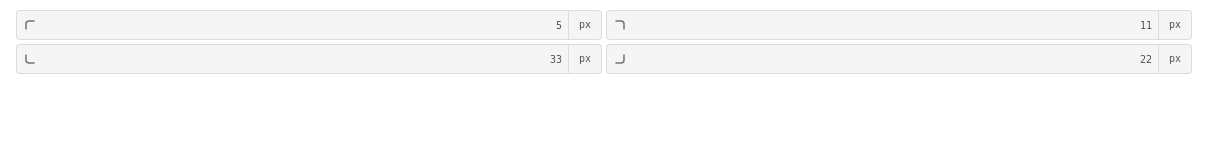
Test case: CornerRadiusEditor CornerCell (behavioral) › arrow-step writes the stepped value back into the draft (input reflects it)
Click the text "5".
click(559, 25)  # box [556,20,562,30]
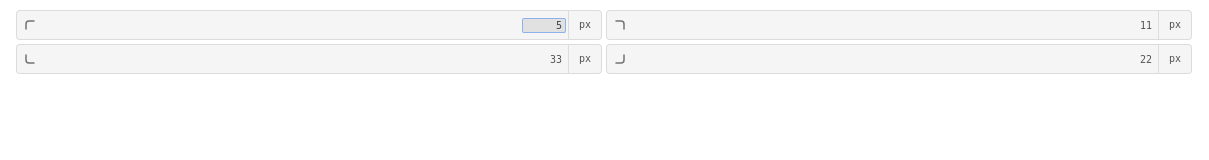
Press ArrowUp in the field named "Top-left radius", box [522,18,566,32]
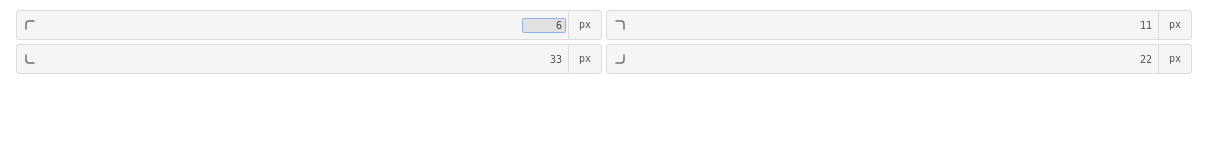
Now the field named "Top-left radius" holds "6", box [522,18,566,32]
